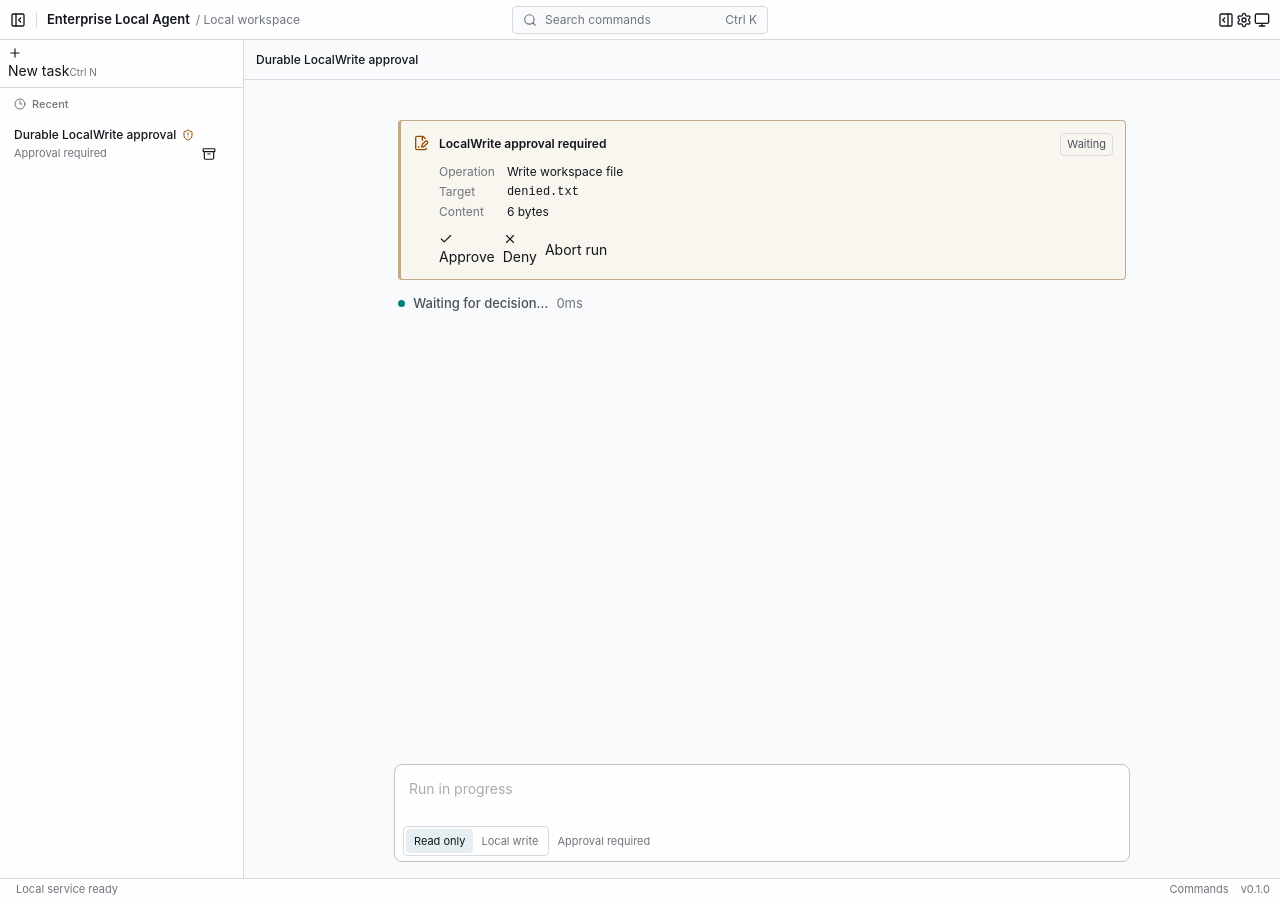
Test: App conversation › records denial without execution and requires an explicit denied-run continuation
The width and height of the screenshot is (1280, 900).
Click the button "Deny".
click(520, 249)  # box [503,232,537,266]
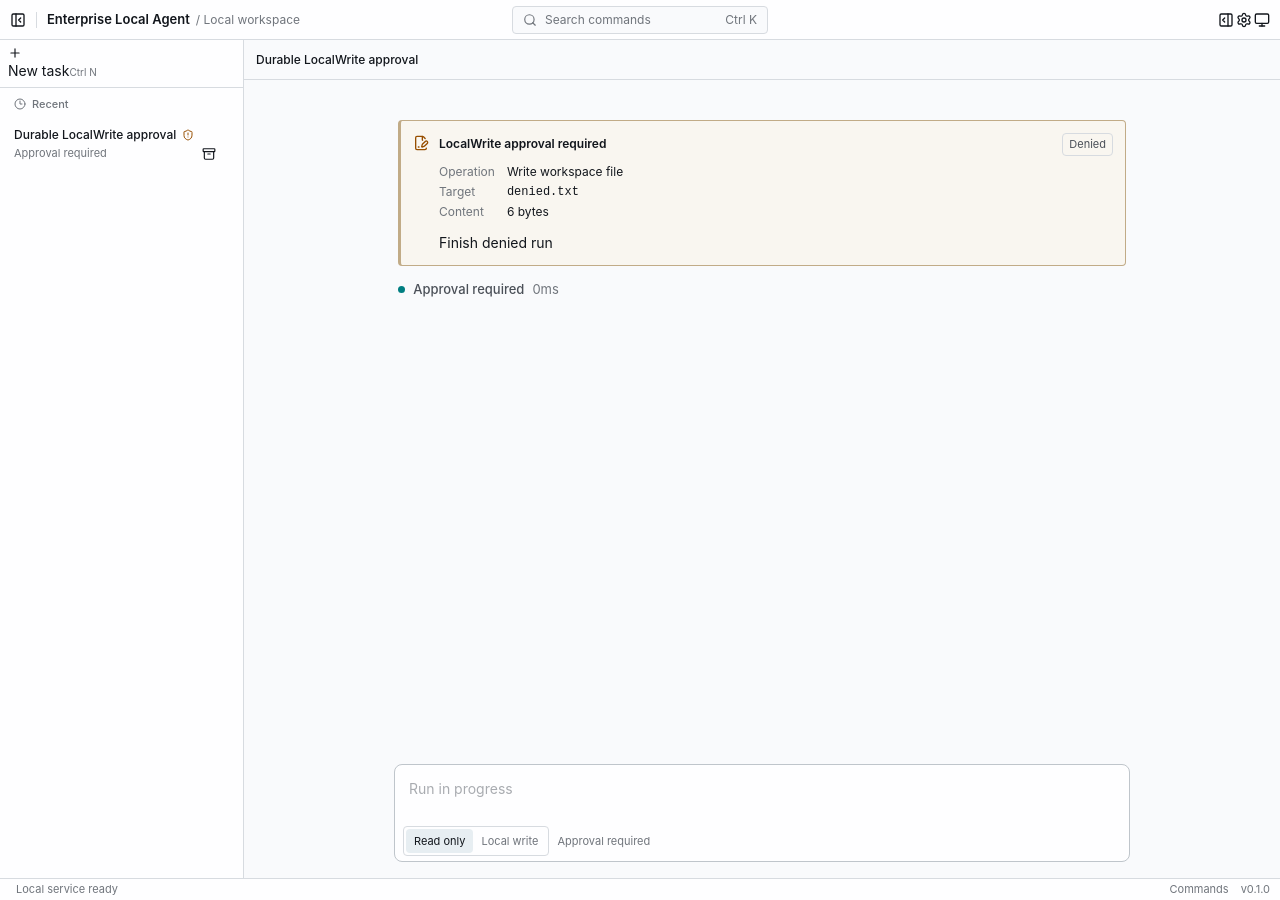
Result: the button "Finish denied run" is shown at [439,232,553,252]
